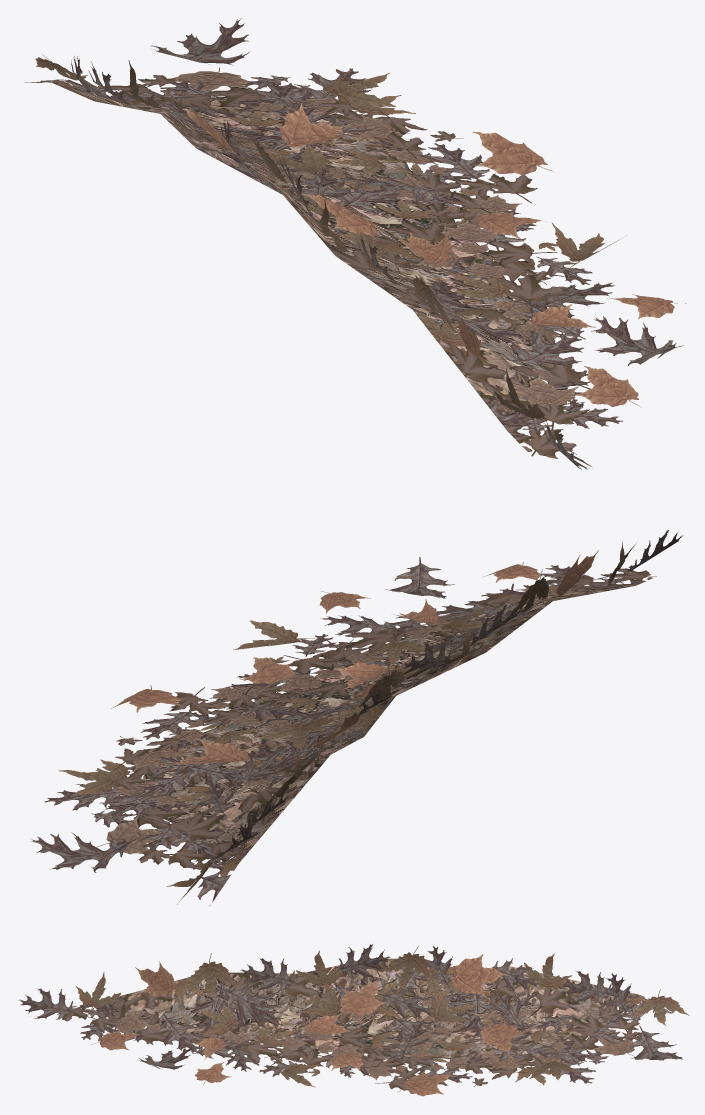
The model's file is SM_Cave_Leaf_Pile02.5df14291.glb.
3 views of the same model, one above another, from view 1: azimuth 30°, elevation 25°; view 2: azimuth 150°, elevation 25°; view 3: azimuth 270°, elevation 25° (orthographic). The views are drawn at different scales.
Visible parts, largest first — view 1: SM_Cave_Leaf_Pile02; view 2: SM_Cave_Leaf_Pile02; view 3: SM_Cave_Leaf_Pile02.
Part boxes in pixels (left/top/right/bottom): SM_Cave_Leaf_Pile02: left=25, top=18, right=686, bottom=469; SM_Cave_Leaf_Pile02: left=30, top=530, right=683, bottom=906; SM_Cave_Leaf_Pile02: left=18, top=944, right=689, bottom=1096.
Bounding box in the file's own units: 1.07 × 0.3963 × 3.18.
Materials: 1 (1 with a texture image).
